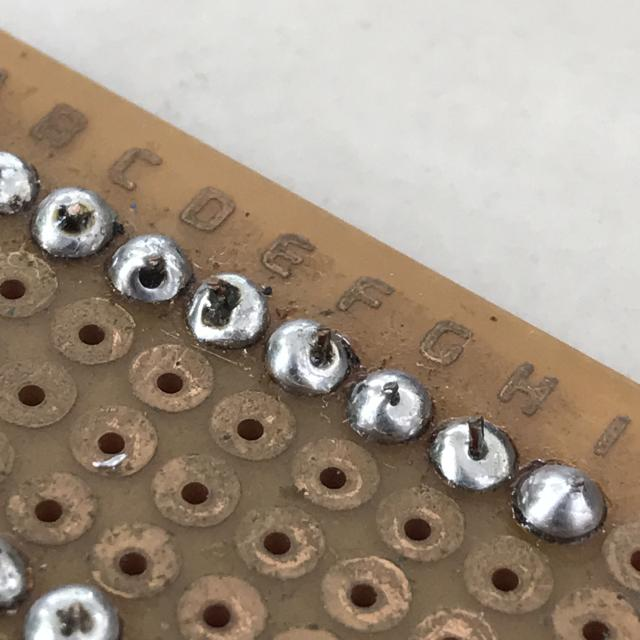good: (508, 451, 616, 555)
hole: (341, 357, 440, 454), (24, 176, 123, 271), (182, 262, 277, 361), (262, 310, 360, 405), (424, 405, 524, 497), (101, 225, 201, 315)
